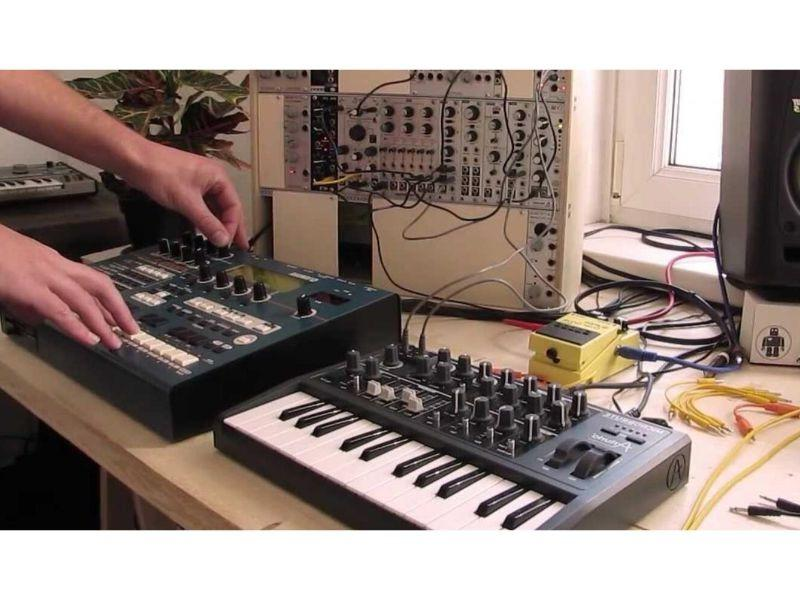synthesizer: (276, 331, 692, 520)
